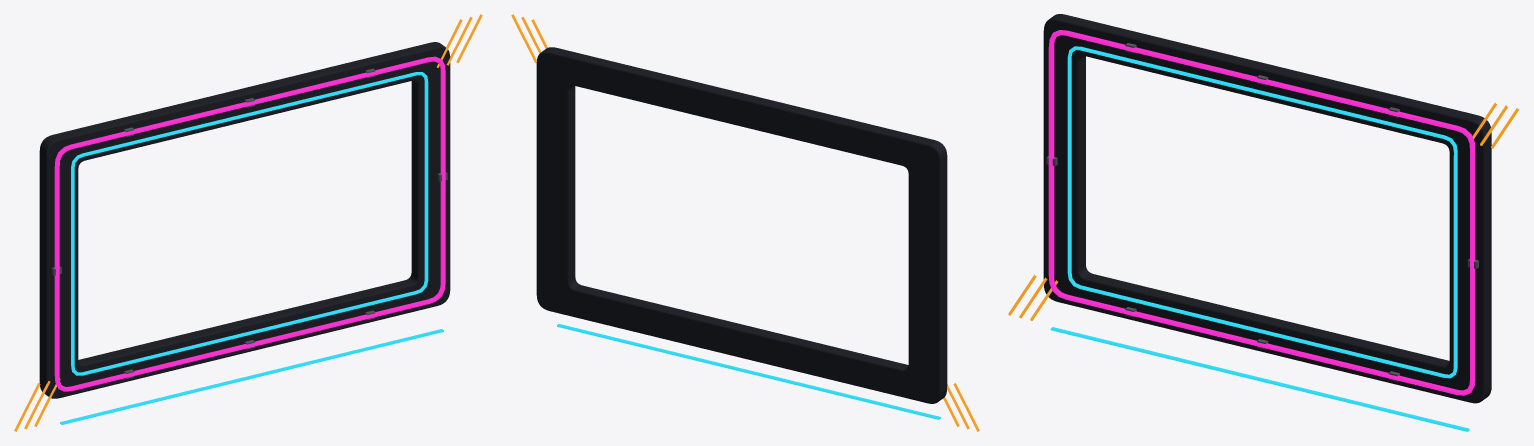
File: neon.glb
The picture shows the model from 3 angles, left to right: view 1: azimuth 30°, elevation 25°; view 2: azimuth 150°, elevation 25°; view 3: azimuth 330°, elevation 25°; orthographic projection. The views are drawn at different scales.
Visible parts, largest first — view 1: frame, tube-outer, tube-inner, floor-line, slashes, clips; view 2: frame, floor-line, slashes; view 3: frame, tube-outer, tube-inner, floor-line, slashes, clips.
Part boxes in pixels (x1,y1,x2,y2): frame: (39, 42, 450, 398); tube-outer: (54, 56, 445, 391); tube-inner: (71, 72, 428, 375); floor-line: (60, 329, 443, 424); slashes: (14, 14, 482, 431); clips: (51, 68, 447, 378); frame: (536, 47, 947, 403); floor-line: (557, 324, 940, 419); slashes: (511, 14, 979, 431); frame: (1043, 14, 1491, 403); tube-outer: (1048, 30, 1475, 395); tube-inner: (1067, 46, 1457, 378); floor-line: (1050, 327, 1469, 431); slashes: (1008, 102, 1519, 320); clips: (1046, 43, 1478, 381).
Size of the model in its own units: 2.33 by 1.45 by 0.099.
